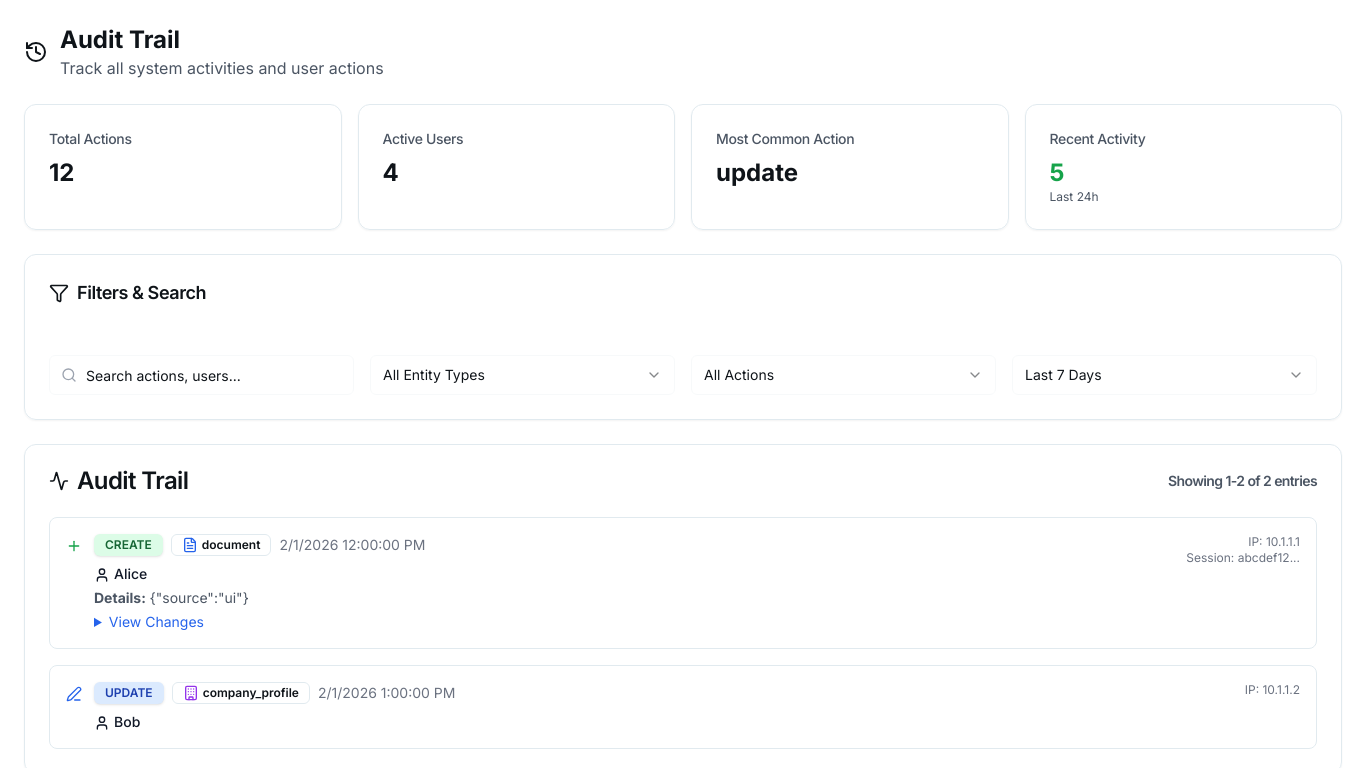
Scenario: AuditTrail interactions › renders stats, entries, details, and empty-state metadata
This screenshot has width=1366, height=768.
Check: the heading "Audit Trail" is shown, box [60,25,180,54]
Check: the text "Total Actions" is shown, box [49,130,132,147]
Step 1. Click the heading "View Changes" → (156, 622), box [109,613,204,630]
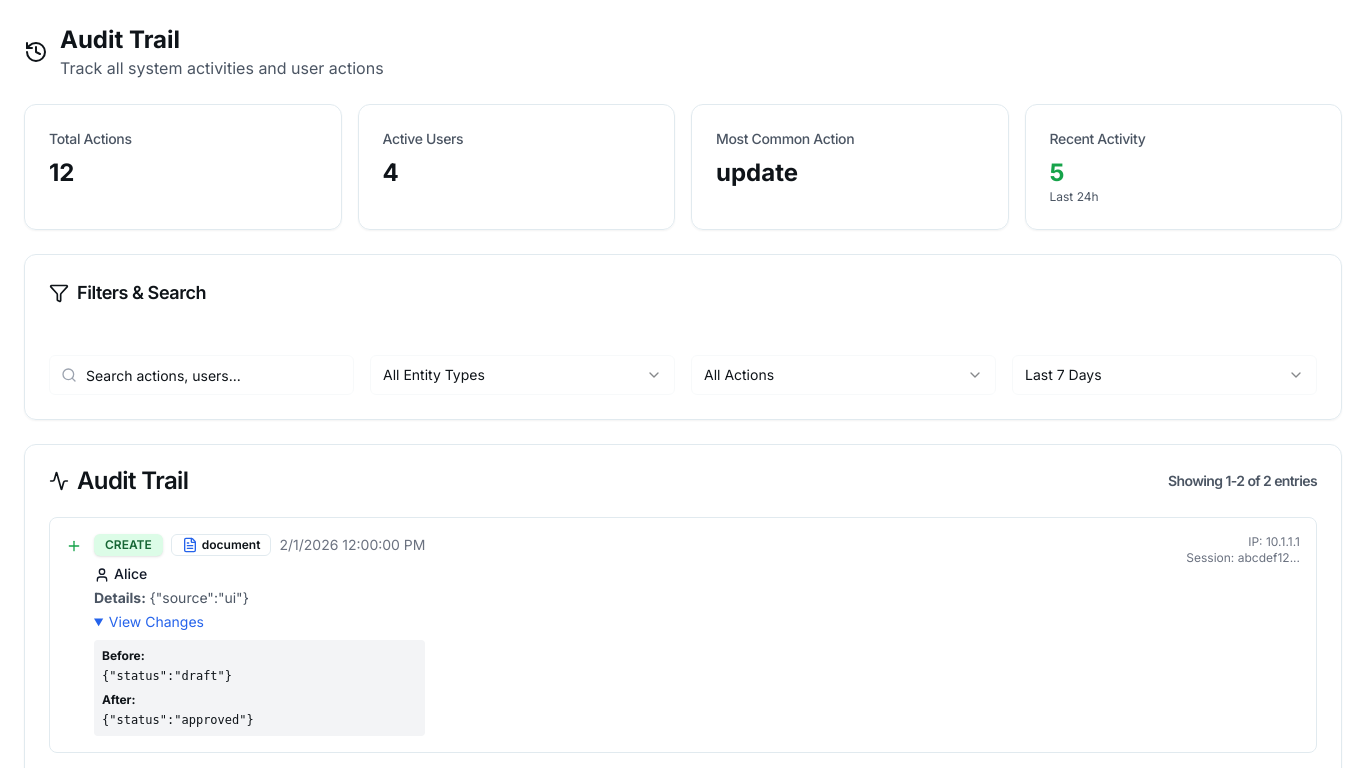
Check: the text "Before:" is shown, box [102,648,145,663]
Check: the text "After:" is shown, box [102,692,136,707]
